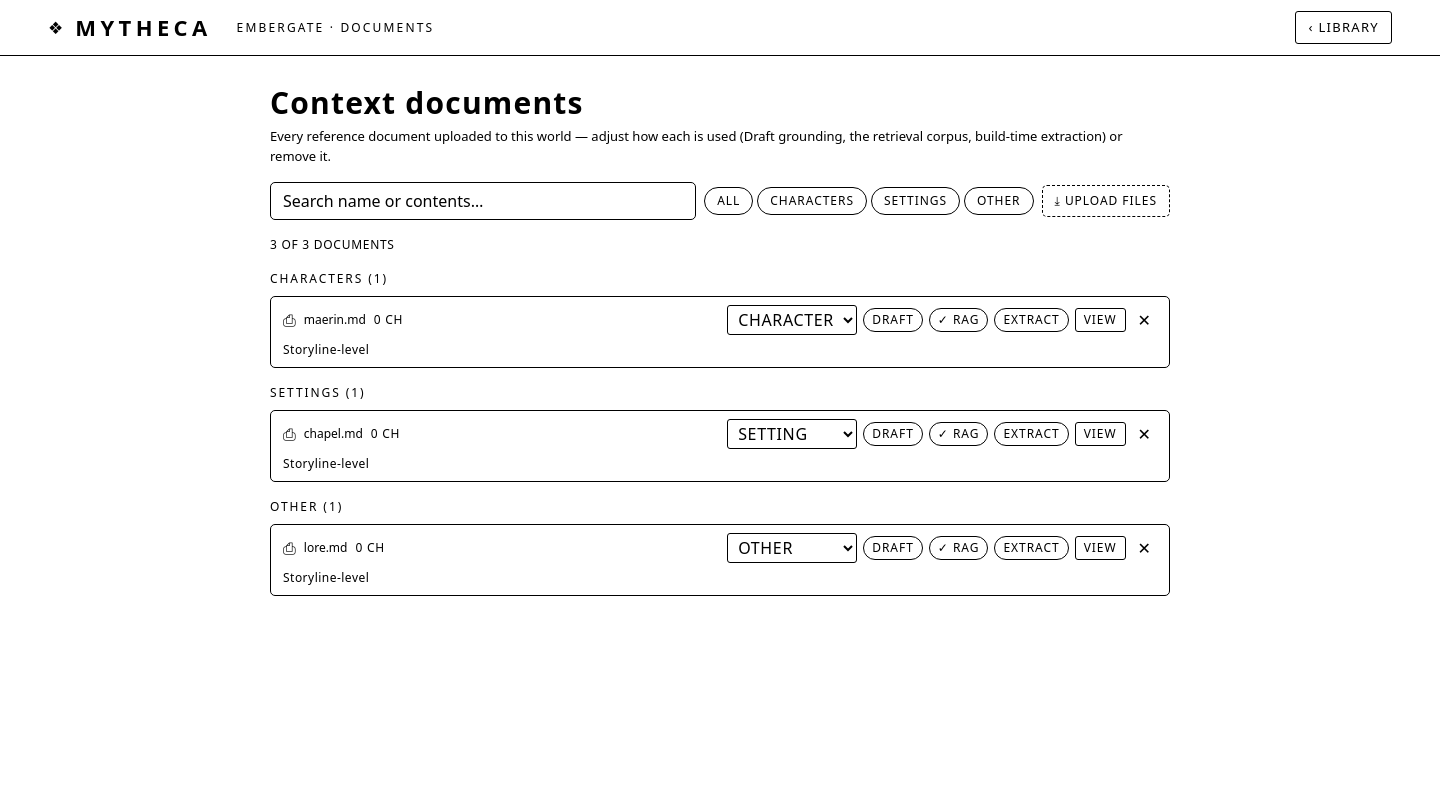
DocumentsView › filters by category
Check: the text "maerin.md" is shown, box top-left (304, 311), bottom-right (366, 329)
Click the button "Settings" at (916, 201), box top-left (871, 187), bottom-right (960, 215)
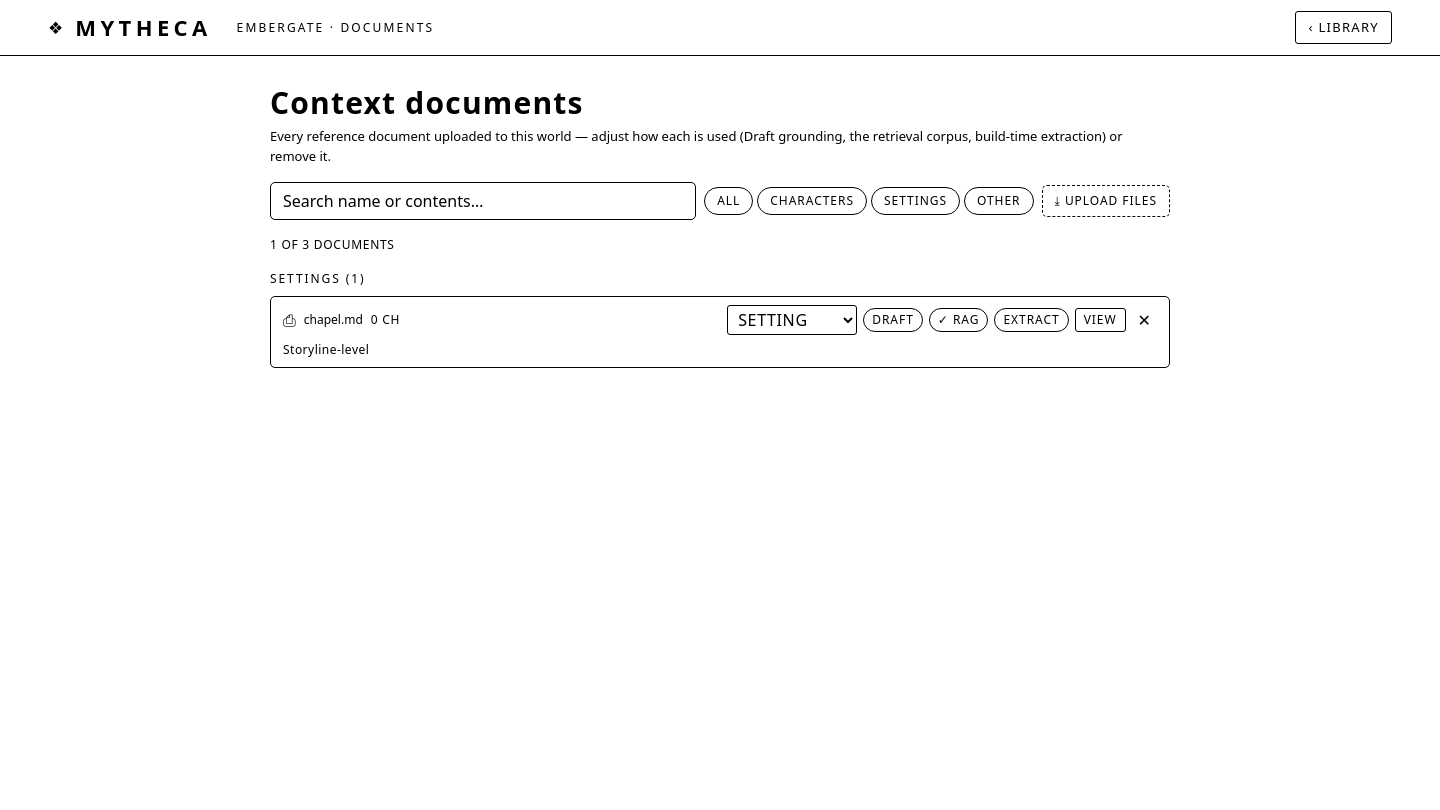
Check: the text "chapel.md" is shown, box top-left (304, 311), bottom-right (363, 329)
Check: the text "maerin.md" is gone
